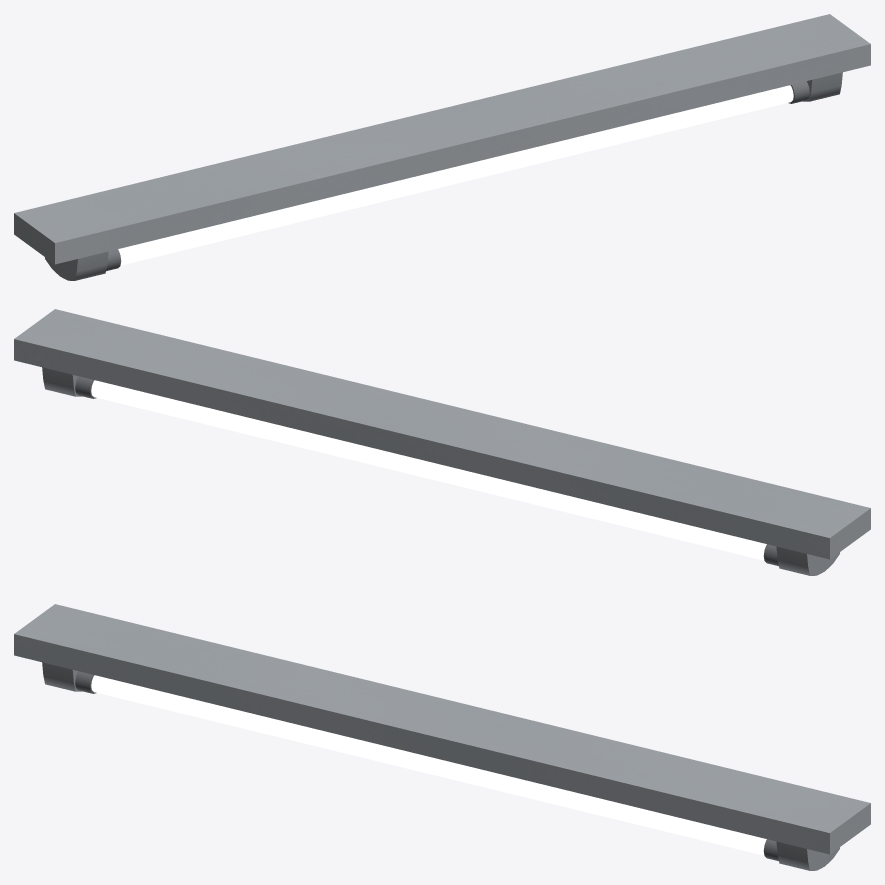
Rendered from Light.fbx.
The picture shows the model from 3 angles, top to bottom: view 1: azimuth 30°, elevation 25°; view 2: azimuth 150°, elevation 25°; view 3: azimuth 330°, elevation 25°; orthographic projection.
Visible parts, largest first — view 1: Light; view 2: Light; view 3: Light.
Boxes of the visible parts, left/top/right/bottom form: Light: left=14, top=14, right=870, bottom=280; Light: left=14, top=309, right=870, bottom=575; Light: left=14, top=604, right=870, bottom=870.
Bounding box in the file's own units: 1 × 0.064 × 0.0873.
